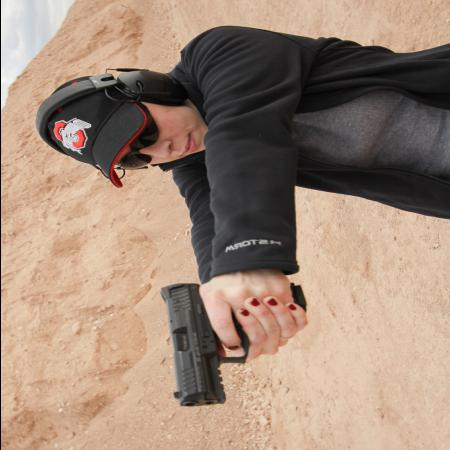Pistol: (151, 276, 333, 406)
